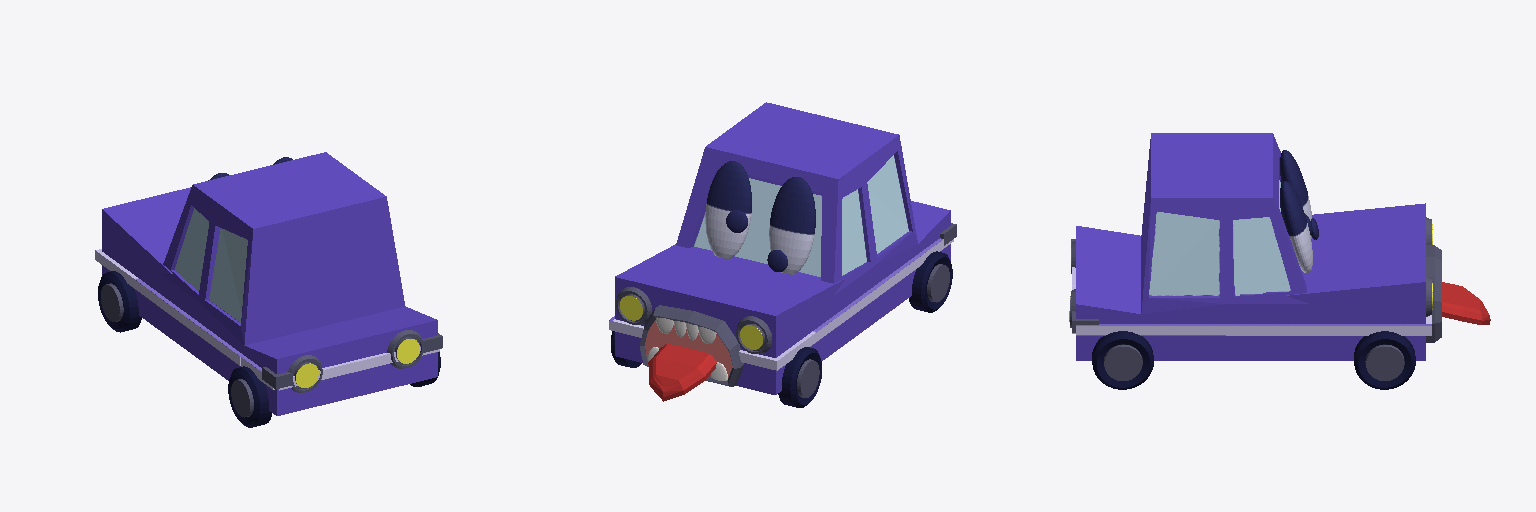
3 views of the same model, side by side, from view 1: azimuth 30°, elevation 25°; view 2: azimuth 150°, elevation 25°; view 3: azimuth 270°, elevation 25° (orthographic).
Visible parts, largest first — view 1: cube, circle.001, circle, circle.007, circle.006; view 2: cube, circle.010, sphere.001, sphere, circle.008, circle.001, circle, circle.004, circle.005; view 3: cube, circle.002, circle.003, sphere, circle.008, circle.010, sphere.001.
Part boxes in pixels (left/top/right/bottom): cube: left=95, top=152, right=439, bottom=415; circle.001: left=228, top=366, right=271, bottom=427; circle: left=98, top=271, right=141, bottom=332; circle.007: left=387, top=330, right=423, bottom=368; circle.006: left=288, top=355, right=322, bottom=392; cube: left=609, top=102, right=953, bottom=394; circle.010: left=639, top=305, right=743, bottom=386; sphere.001: left=769, top=177, right=815, bottom=274; sphere: left=705, top=161, right=751, bottom=258; circle.008: left=648, top=344, right=716, bottom=401; circle.001: left=909, top=251, right=952, bottom=312; circle: left=778, top=347, right=821, bottom=407; circle.004: left=736, top=316, right=771, bottom=353; circle.005: left=616, top=287, right=651, bottom=324; cube: left=1072, top=133, right=1431, bottom=360; circle.002: left=1092, top=331, right=1153, bottom=389; circle.003: left=1354, top=331, right=1415, bottom=389; sphere: left=1280, top=181, right=1312, bottom=272; circle.008: left=1442, top=282, right=1490, bottom=324; circle.010: left=1426, top=245, right=1441, bottom=342; sphere.001: left=1280, top=150, right=1311, bottom=238.
Bounding box in the file's own units: 4.05 × 3.73 × 7.87.
Materials: 23 (8 with a texture image).